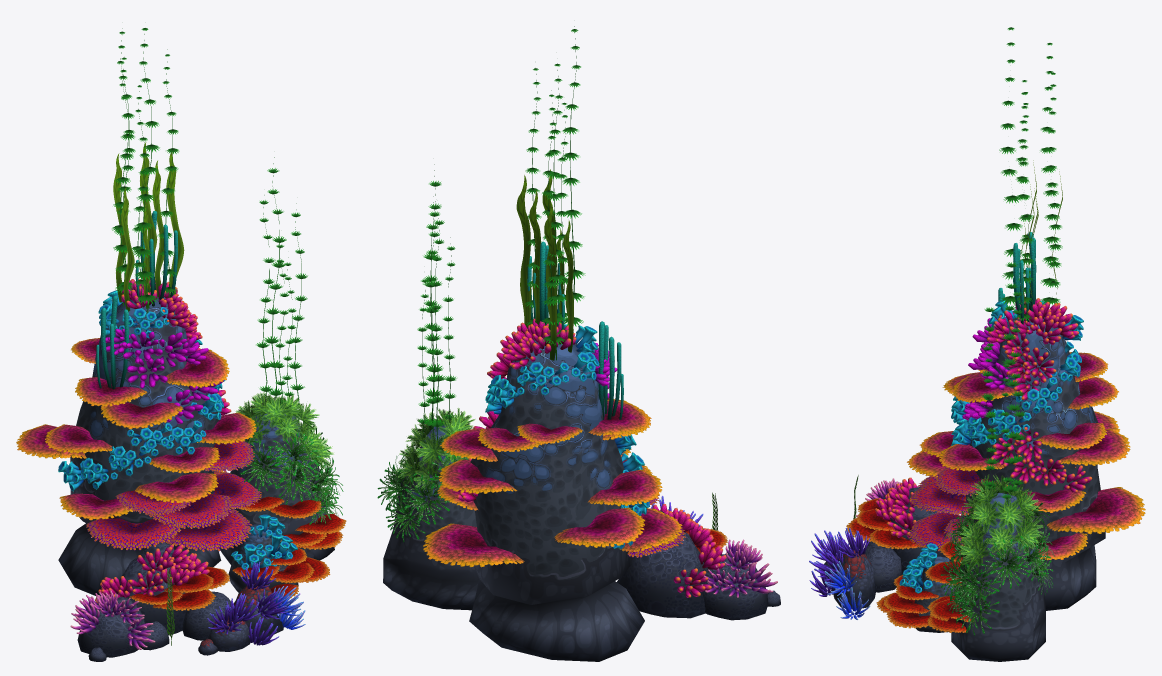
Rendered from CoralSet_12.FBX.
The picture shows the model from 3 angles, left to right: view 1: azimuth 30°, elevation 25°; view 2: azimuth 150°, elevation 25°; view 3: azimuth 270°, elevation 25°; orthographic projection. The views are drawn at different scales.
Parts seen in each view (by area): view 1: Box003, Plane159, CoralSet_12, Plane139, Plane128, Plane274, Plane024, Line143, Line137, Plane217, Line208, Line029 (+8 smaller); view 2: Box003, Plane159, CoralSet_12, Plane024, Plane274, Line137, Line143, Plane217, Line227, Line226, Plane272; view 3: Box003, Plane159, Line137, CoralSet_12, Plane128, Plane217, Plane274, Line143, Plane139, Plane024, Line029, Line208 (+4 smaller).
Part boxes in pixels (left/top/right/bottom): Box003: left=58, top=297, right=334, bottom=595; Plane159: left=16, top=338, right=256, bottom=520; CoralSet_12: left=70, top=142, right=333, bottom=649; Plane139: left=86, top=440, right=261, bottom=552; Plane128: left=129, top=496, right=346, bottom=610; Plane274: left=112, top=28, right=307, bottom=420; Plane024: left=77, top=542, right=230, bottom=661; Line143: left=58, top=290, right=225, bottom=491; Line137: left=95, top=279, right=231, bottom=603; Plane217: left=240, top=425, right=343, bottom=524; Line208: left=121, top=331, right=223, bottom=423; Line029: left=207, top=562, right=288, bottom=645; Box003: left=383, top=339, right=644, bottom=661; Plane159: left=423, top=375, right=682, bottom=567; CoralSet_12: left=396, top=169, right=777, bottom=597; Plane024: left=617, top=510, right=780, bottom=620; Plane274: left=417, top=26, right=585, bottom=442; Line137: left=456, top=318, right=726, bottom=597; Line143: left=485, top=324, right=649, bottom=549; Plane217: left=377, top=455, right=466, bottom=542; Line227: left=598, top=321, right=623, bottom=419; Line226: left=527, top=241, right=564, bottom=336; Plane272: left=555, top=102, right=569, bottom=334; Box003: left=914, top=317, right=1105, bottom=661; Plane159: left=907, top=352, right=1145, bottom=560; Line137: left=875, top=298, right=1092, bottom=537; CoralSet_12: left=856, top=160, right=1062, bottom=572; Plane128: left=845, top=498, right=973, bottom=632; Plane217: left=940, top=491, right=1054, bottom=635; Plane274: left=981, top=27, right=1062, bottom=498; Line143: left=951, top=300, right=1083, bottom=447; Plane139: left=908, top=467, right=1007, bottom=551; Plane024: left=865, top=487, right=953, bottom=592; Line029: left=809, top=528, right=870, bottom=596; Line208: left=962, top=318, right=1009, bottom=420.
Size of the model in its own units: 23951 by 42165 by 22608.
